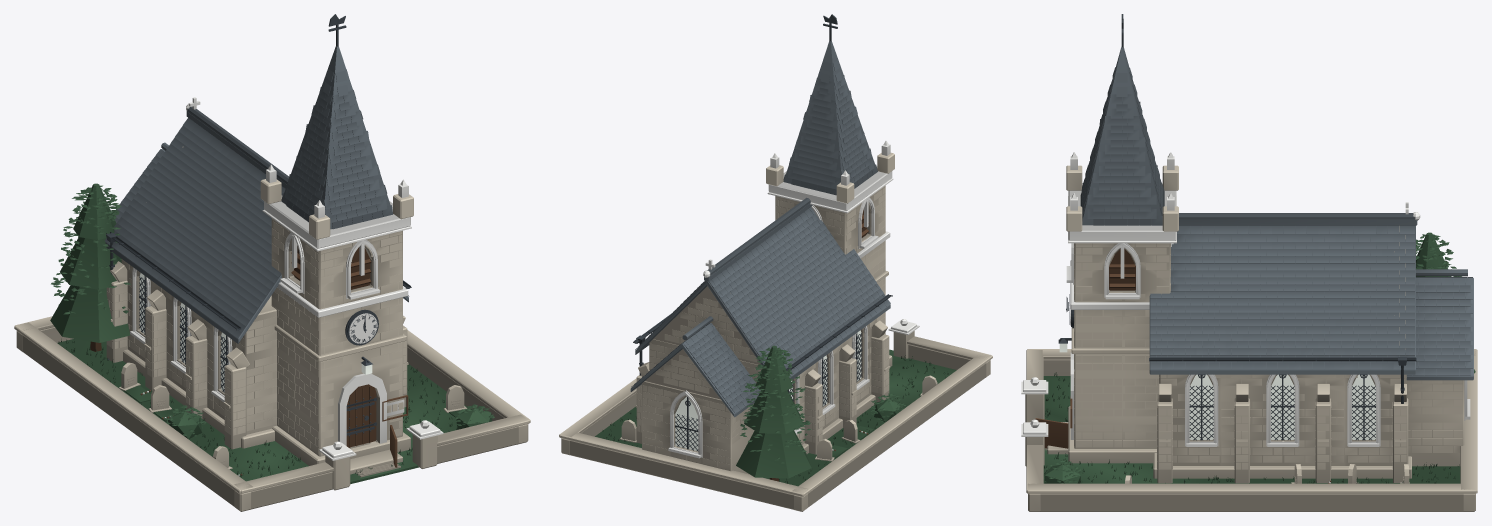
Rendered from village-chapel-near.glb.
The picture shows the model from 3 angles, left to right: view 1: azimuth 30°, elevation 25°; view 2: azimuth 150°, elevation 25°; view 3: azimuth 270°, elevation 25°; orthographic projection. The views are drawn at different scales.
Visible parts, largest first — view 1: ChapelNear; view 2: ChapelNear; view 3: ChapelNear.
Boxes of the visible parts, bbox=[...] form: ChapelNear: bbox=[14, 14, 530, 511]; ChapelNear: bbox=[559, 14, 992, 511]; ChapelNear: bbox=[1021, 14, 1477, 511].
Bounding box in the file's own units: 8.69 × 12.23 × 11.81.
